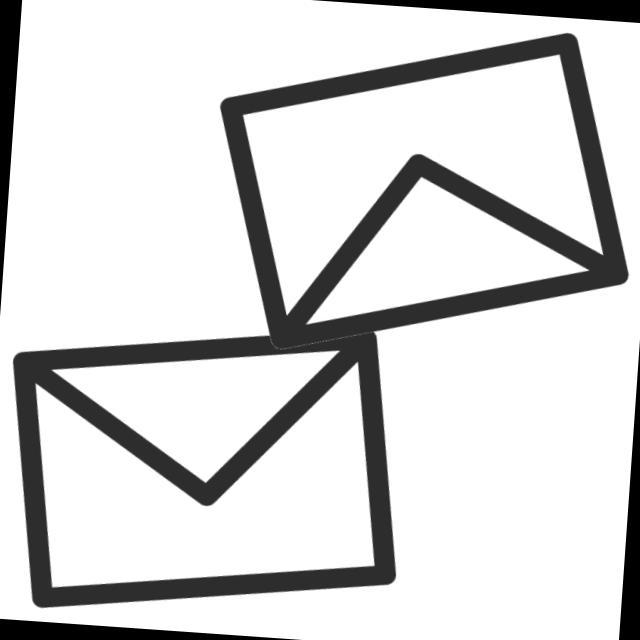letter: (199, 8, 640, 382), (1, 293, 423, 637)
